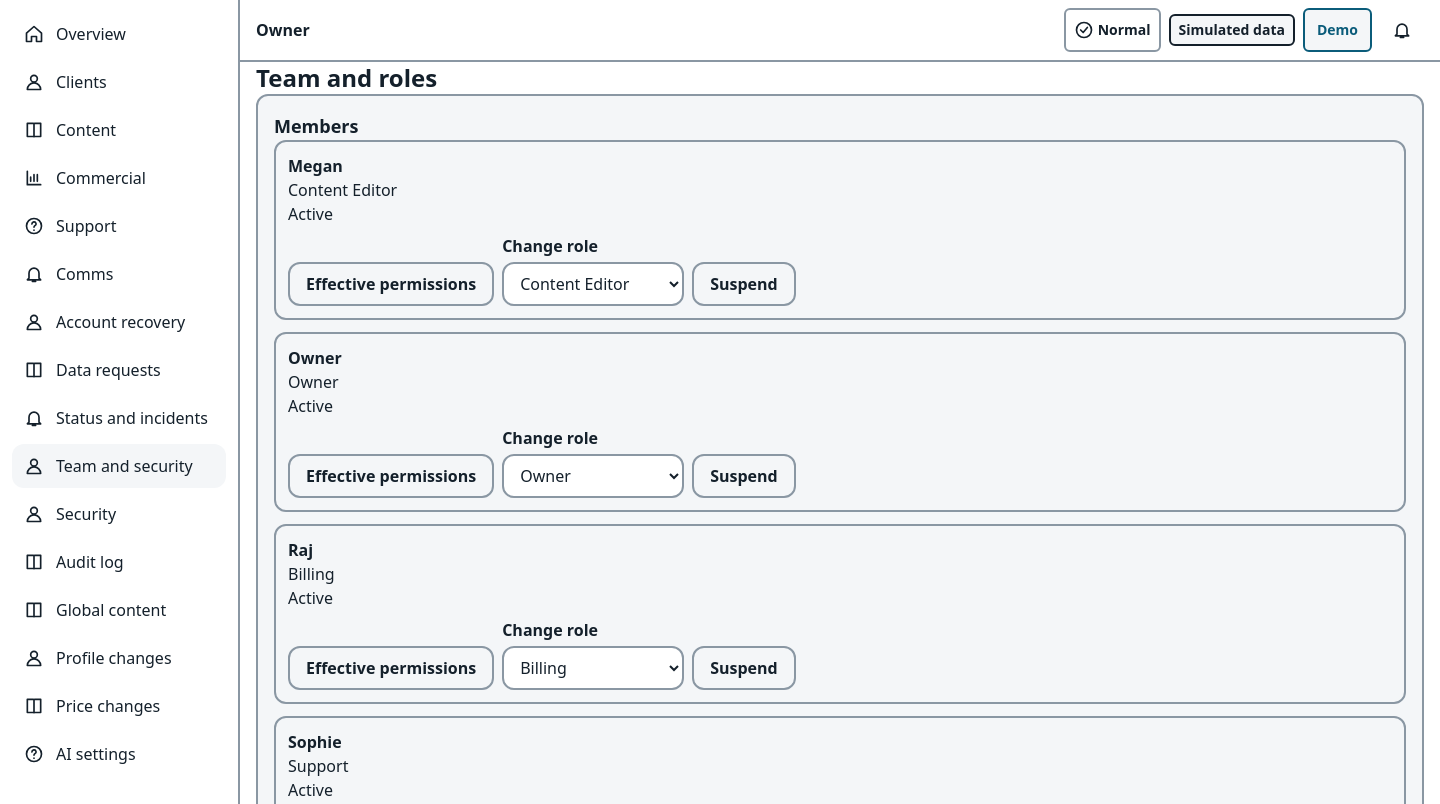
Test: P18 Team and roles: members and invites › refuses to suspend the last Owner and shows why, leaving them Active
Expected: the heading "Team and roles" is shown, x1=256 y1=62 x2=437 y2=94
Click the 2nd button "Suspend" at (744, 476), box x1=692 y1=454 x2=796 y2=498
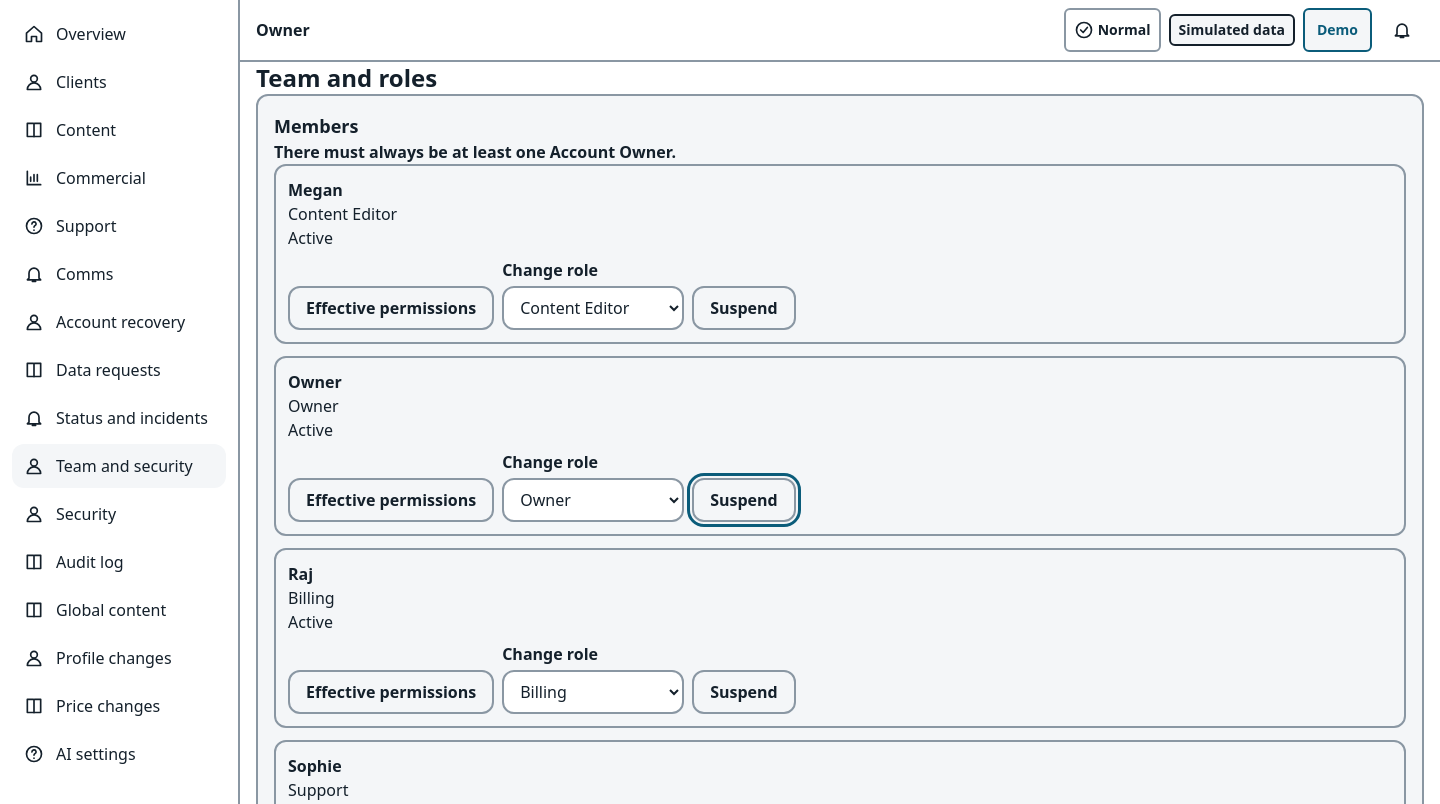
Expected: the list item with test id "member-row" shows "Active", x1=288 y1=419 x2=333 y2=441
Result: the message "There must always be at least one Account Owner." is shown at x1=274 y1=141 x2=676 y2=163
